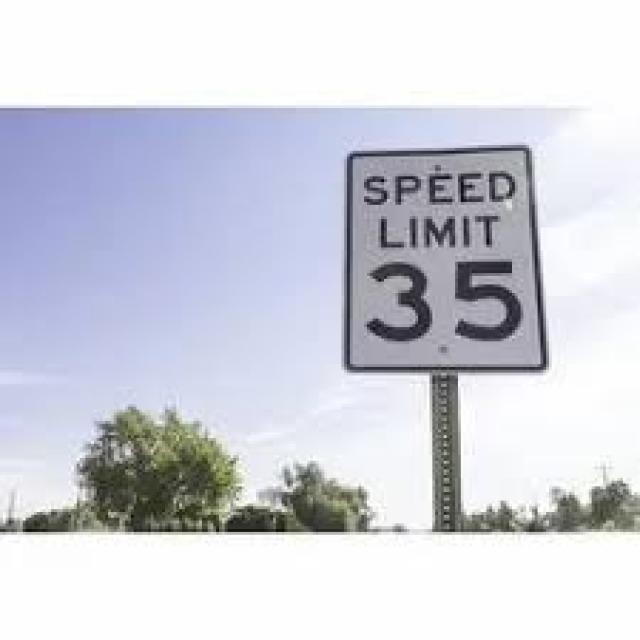speedLimit35: (334, 142, 550, 361)
